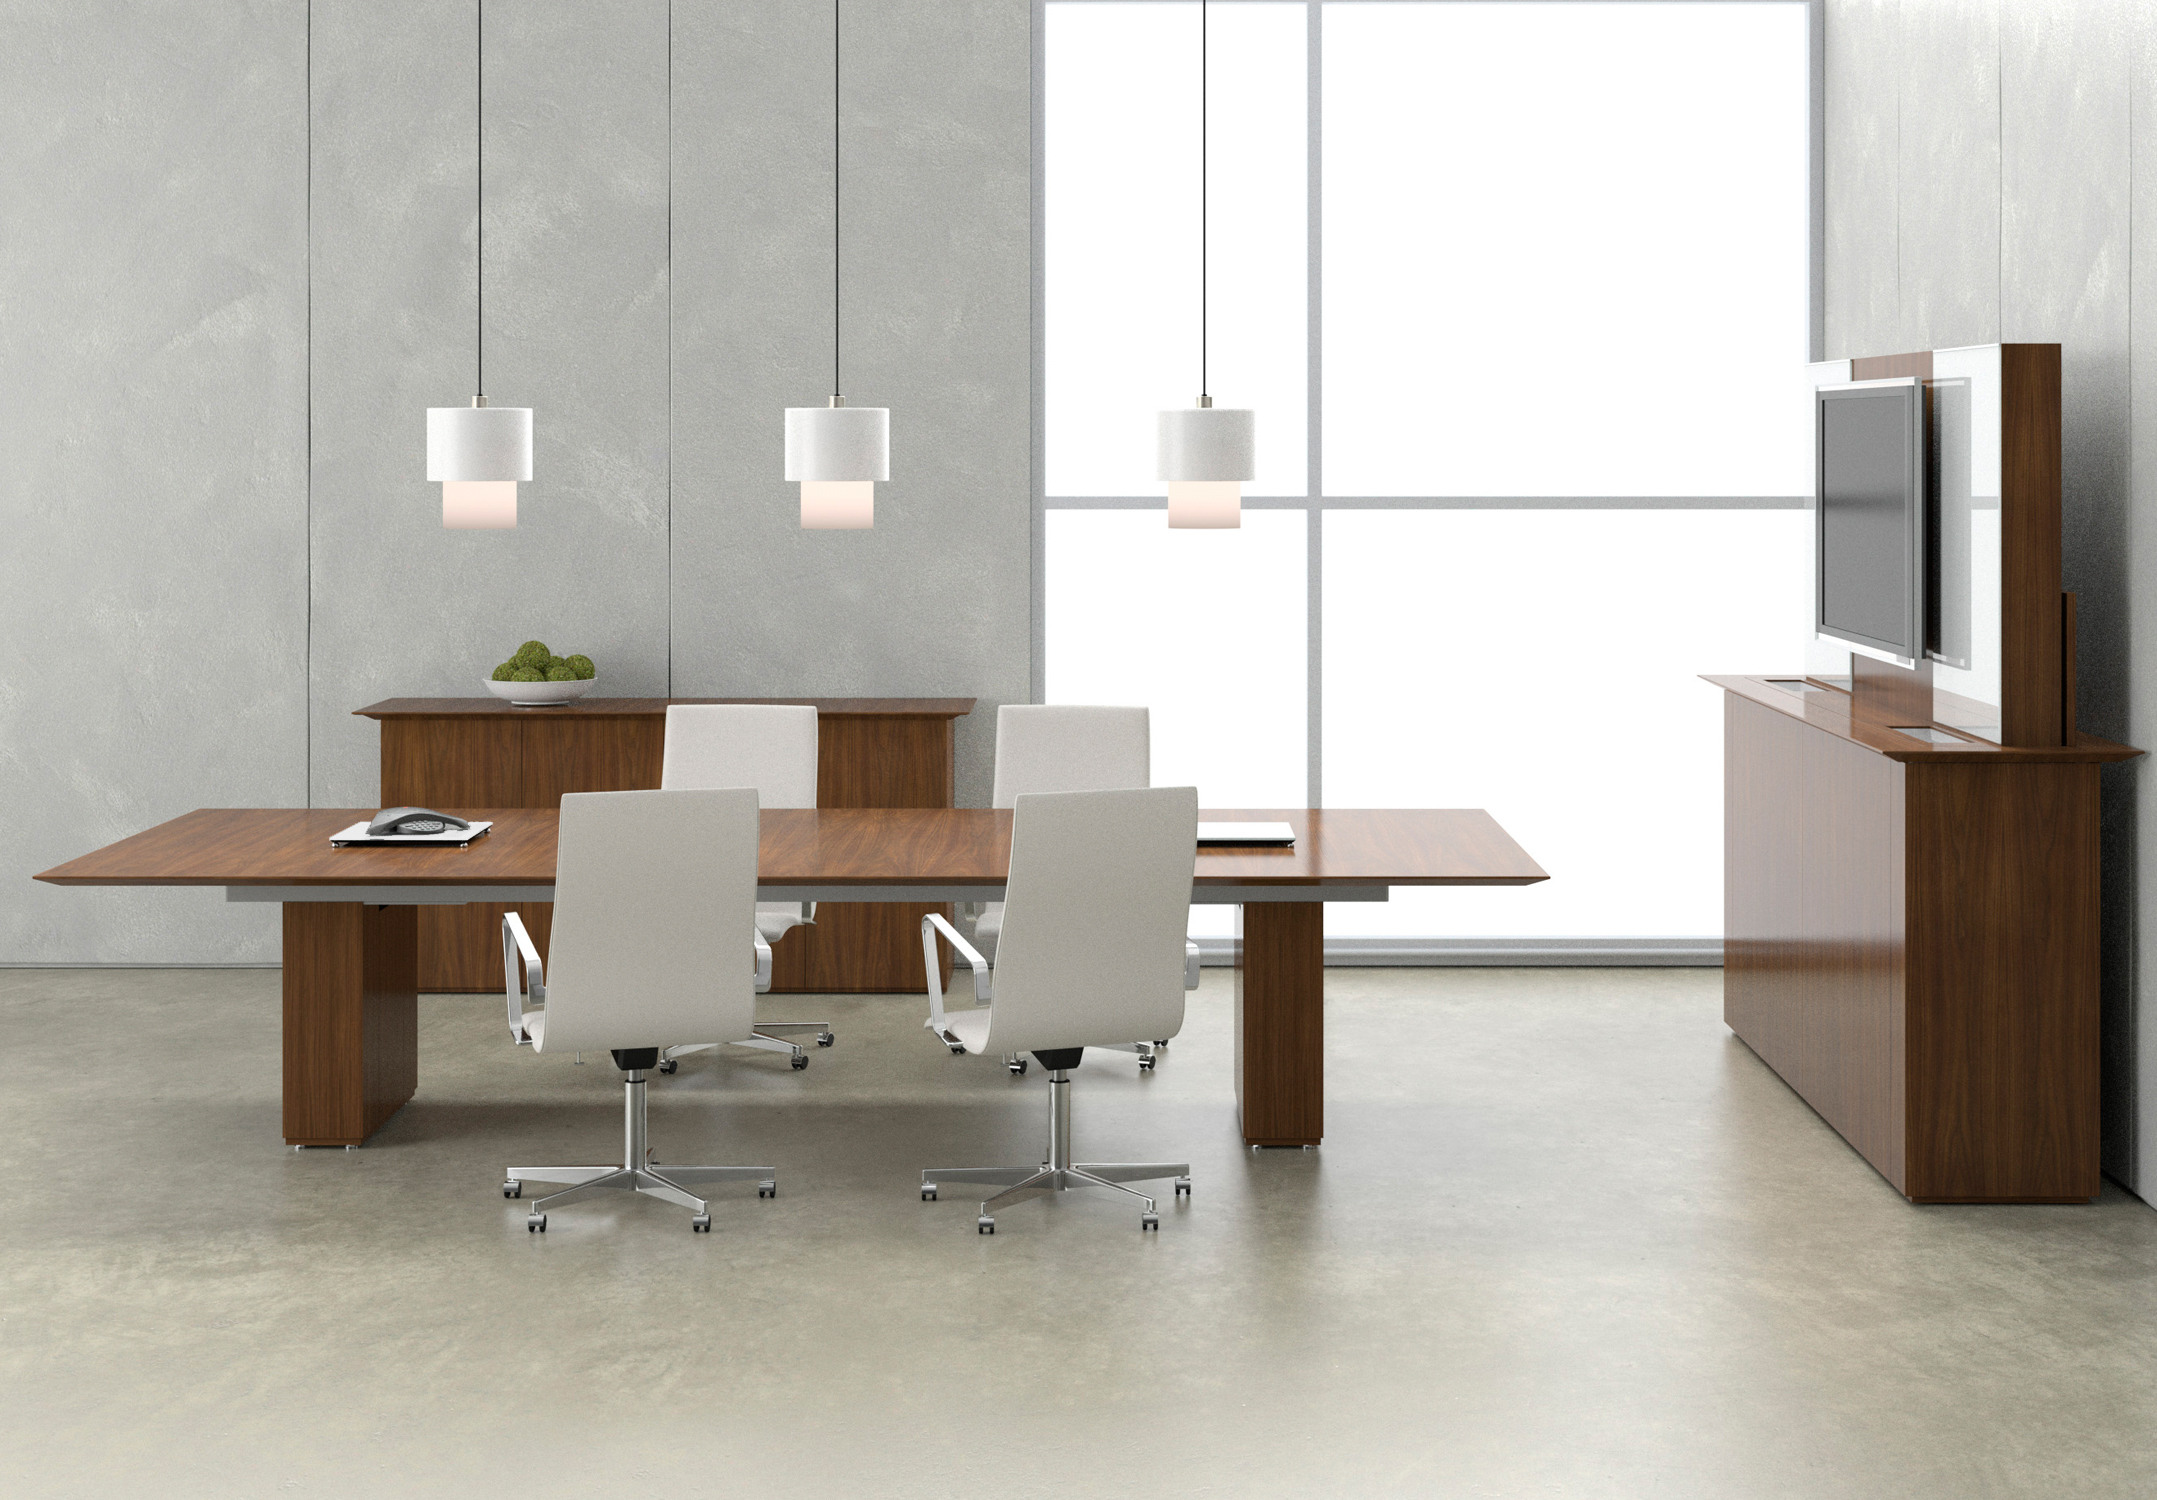conference_table: (36, 803, 1548, 1149)
